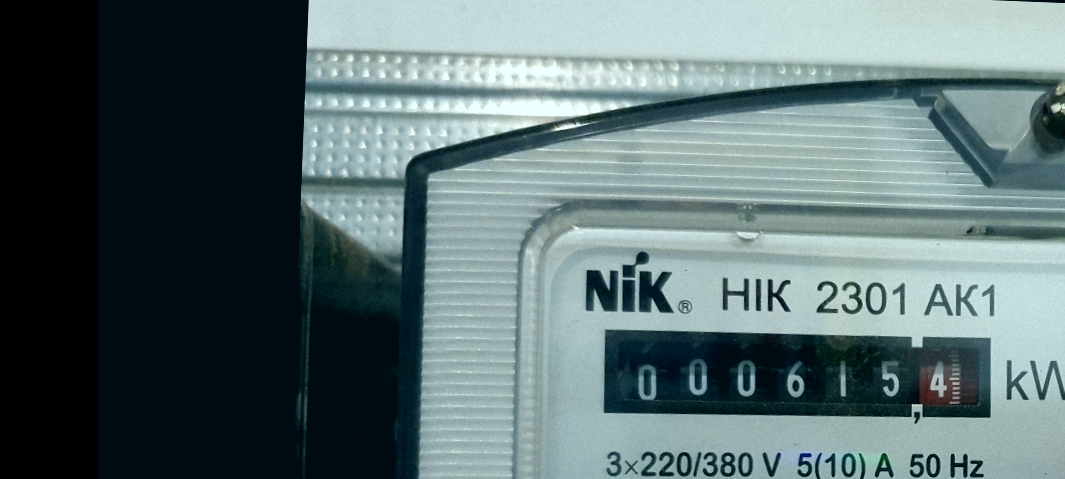0: (634, 360, 661, 402), (734, 356, 760, 399), (686, 355, 711, 396)
1: (837, 357, 851, 399)
4: (928, 357, 949, 399)
5: (879, 356, 903, 399)
6: (783, 357, 809, 399)
screen: (588, 310, 1008, 440)
